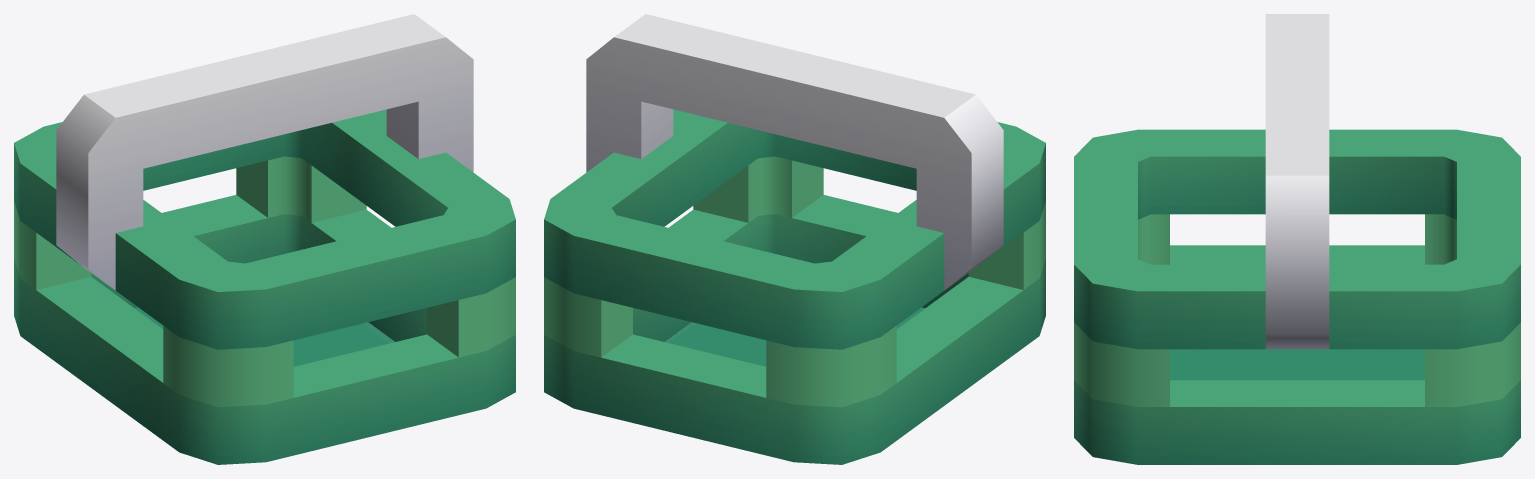
The model's file is shopping-basket.glb.
3 views of the same model, side by side, from view 1: azimuth 30°, elevation 25°; view 2: azimuth 150°, elevation 25°; view 3: azimuth 270°, elevation 25° (orthographic).
Parts seen in each view (by area): view 1: shopping-basket; view 2: shopping-basket; view 3: shopping-basket.
Part boxes in pixels (box(x1,y1,x2,y2)): shopping-basket: box(14, 14, 515, 464); shopping-basket: box(544, 14, 1045, 464); shopping-basket: box(1074, 14, 1520, 464).
Size of the model in its own units: 0.35 by 0.25 by 0.35.
1 material, 1 textured.
